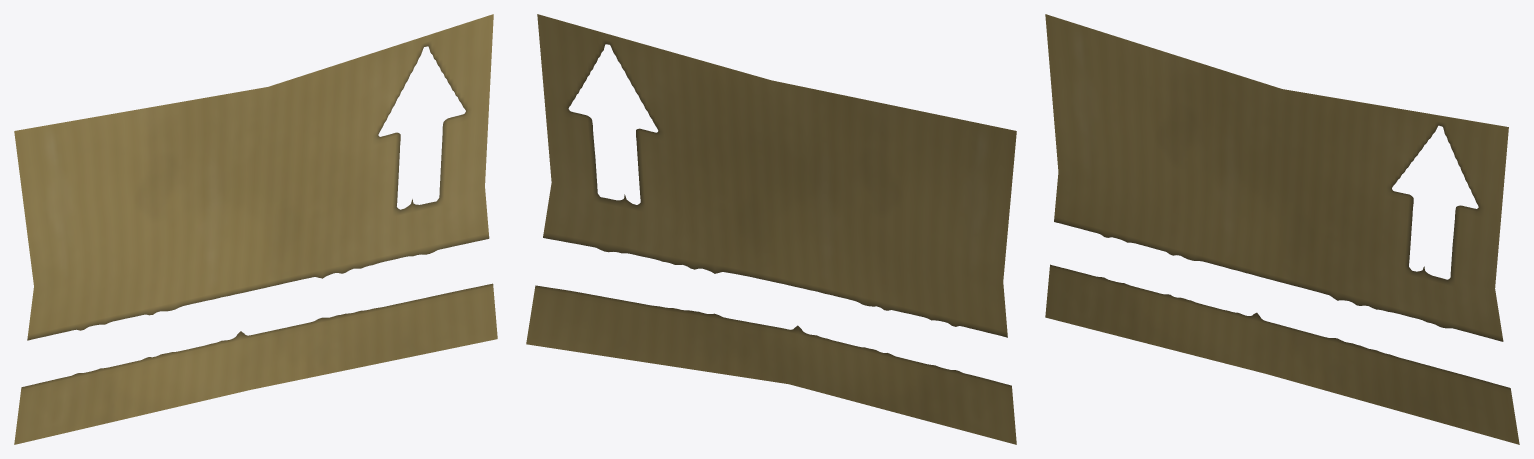
The model's file is p_mesh_smallbox_part03.fbx.
3 views of the same model, side by side, from view 1: azimuth 30°, elevation 25°; view 2: azimuth 150°, elevation 25°; view 3: azimuth 330°, elevation 25° (orthographic). The views are drawn at different scales.
Visible parts, largest first — view 1: p_mesh_containers_onionbox_part03; view 2: p_mesh_containers_onionbox_part03; view 3: p_mesh_containers_onionbox_part03.
Boxes of the visible parts, box(x1,y1,x2,y2) form: p_mesh_containers_onionbox_part03: box(14, 14, 497, 444); p_mesh_containers_onionbox_part03: box(526, 14, 1016, 444); p_mesh_containers_onionbox_part03: box(1045, 14, 1519, 444).
Size of the model in its own units: 3.04 by 1.97 by 0.0863.
